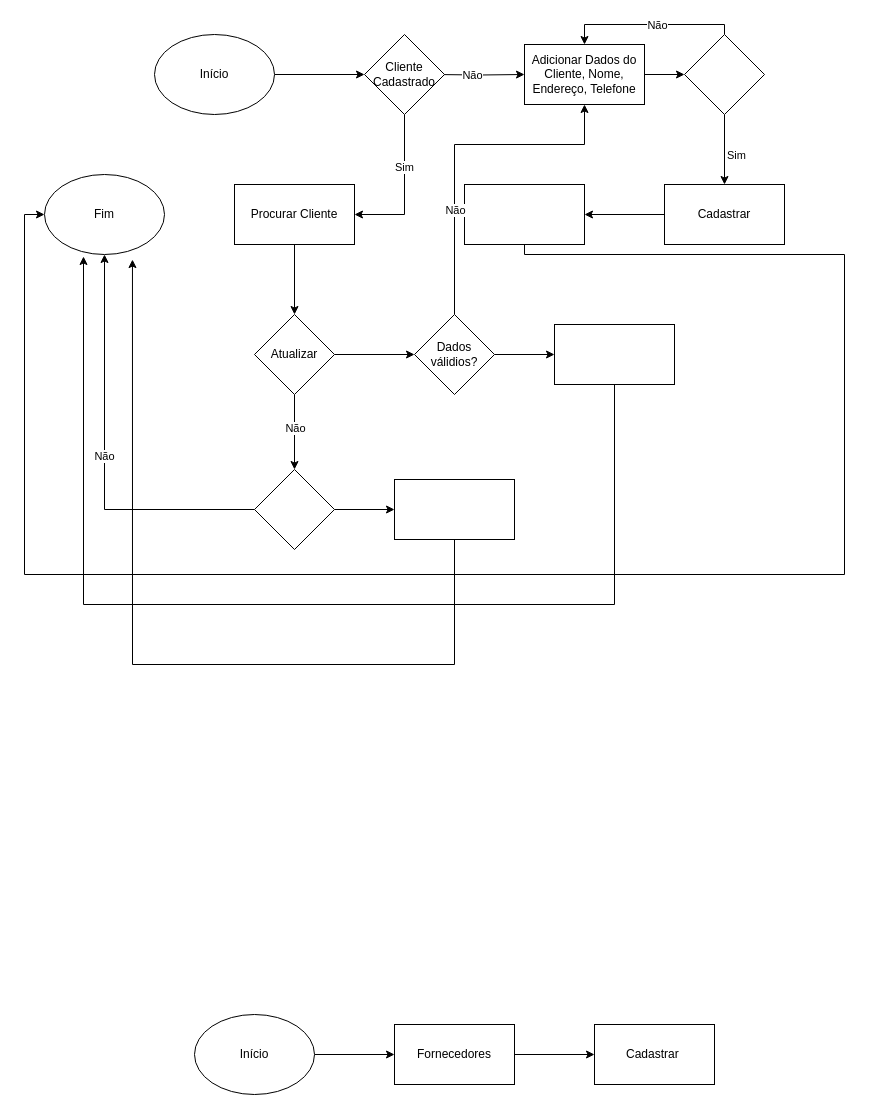
Image size: 870x1112. Some labels were removed from this diagram. Each missing label, with the centre of its shape:
"Apagar" belongs at point (294, 509).
"Apagar Cliente" belongs at point (454, 509).
"Cadastro Atualizado" belongs at point (614, 354).
"Cadastro Realizado" belongs at point (524, 214).
"Dados Corretos" belongs at point (724, 74).
